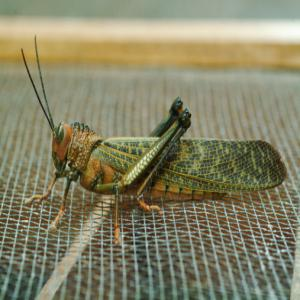locust: (27, 71, 291, 231)
